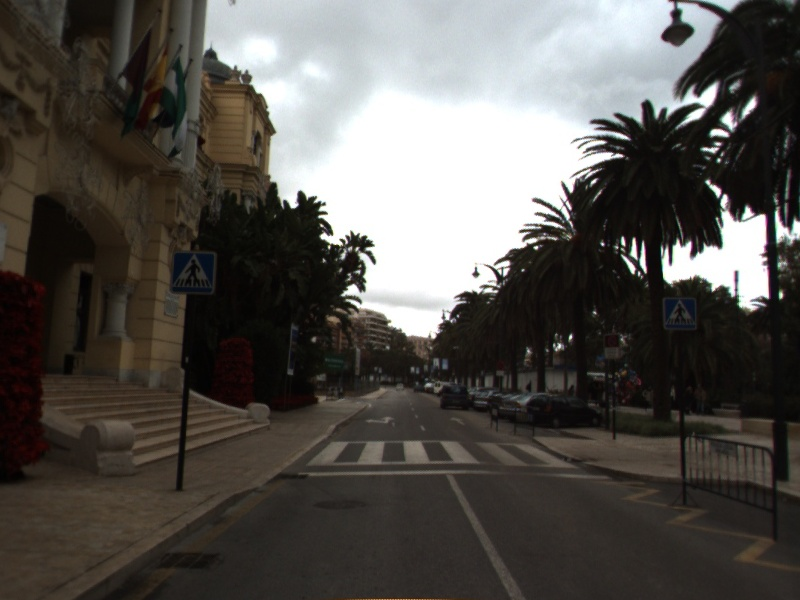STRAIGHT: (447, 414, 468, 427)
STRAIGHT_LEFT: (363, 414, 397, 426)
